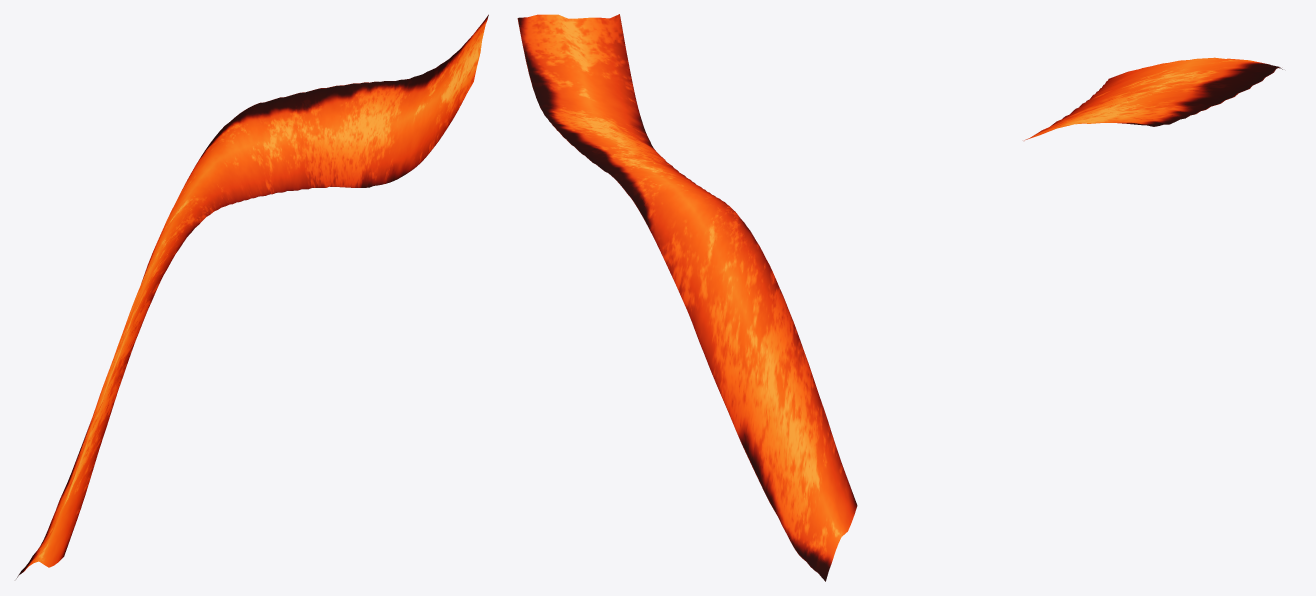
Rendered from flow_0_1.glb.
3 views of the same model, side by side, from view 1: azimuth 30°, elevation 25°; view 2: azimuth 150°, elevation 25°; view 3: azimuth 270°, elevation 25° (orthographic). The views are drawn at different scales.
Size of the model in its own units: 21.11 by 24.7 by 10.59.
